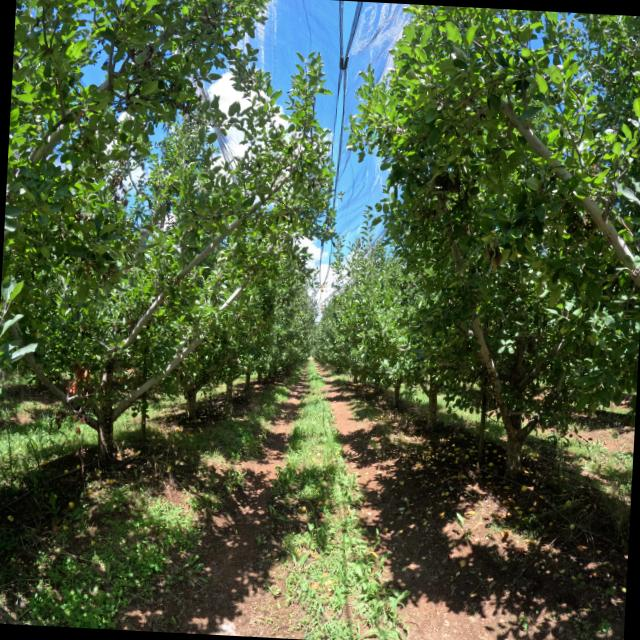-FireBlight-: (72, 363, 91, 384), (47, 410, 69, 428), (66, 380, 78, 394), (130, 370, 140, 380), (73, 413, 80, 422), (80, 415, 86, 425), (76, 426, 80, 436), (118, 378, 124, 384)
